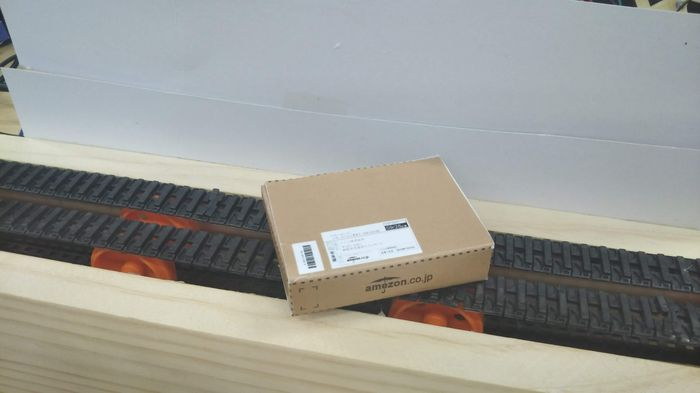box2: (261, 153, 496, 316)
